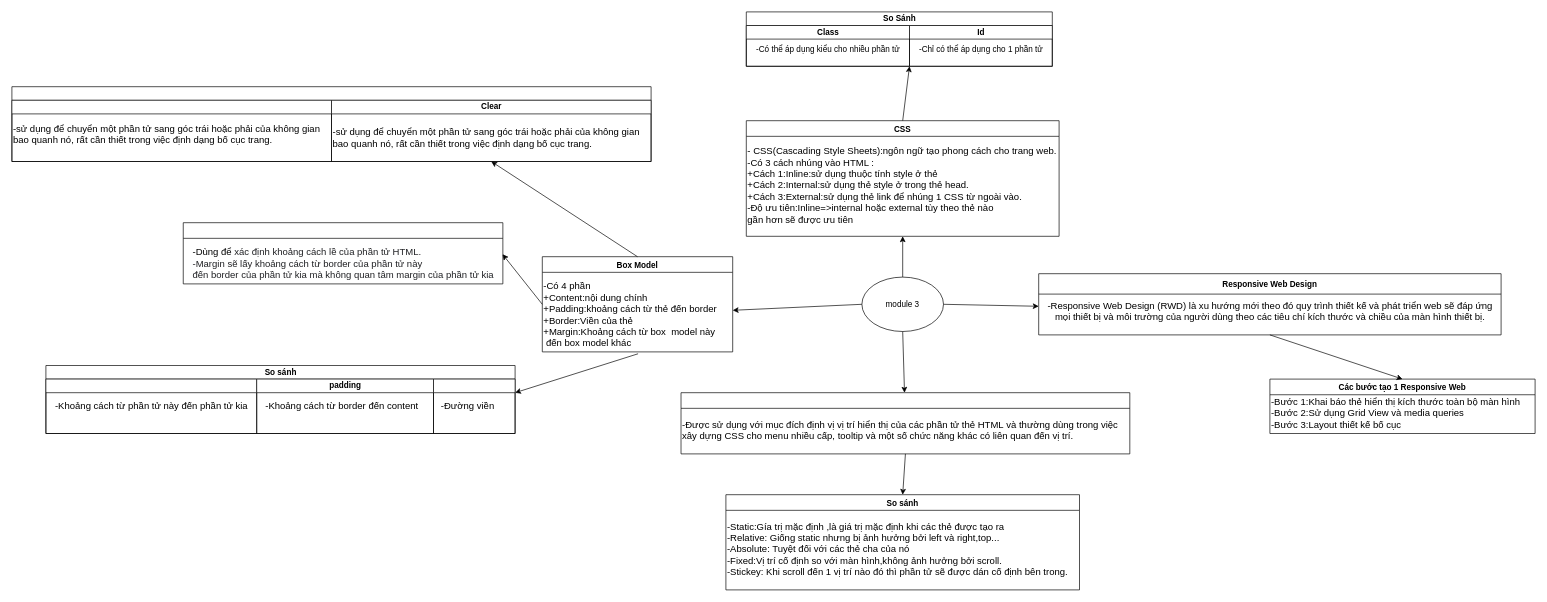
Image size: 1547x602. Some labels were removed from this diagram. The shapes that lost their labels are listed below. From the top down, each one's box as (x1, y1, x2, y2) in pixels, then its label:
(11, 100, 332, 162): Float
(11, 86, 651, 162): Float và Clear
(183, 222, 503, 284): Thuộc tính Margin
(45, 378, 257, 434): margin
(433, 378, 515, 434): border
(680, 392, 1130, 454): Position
